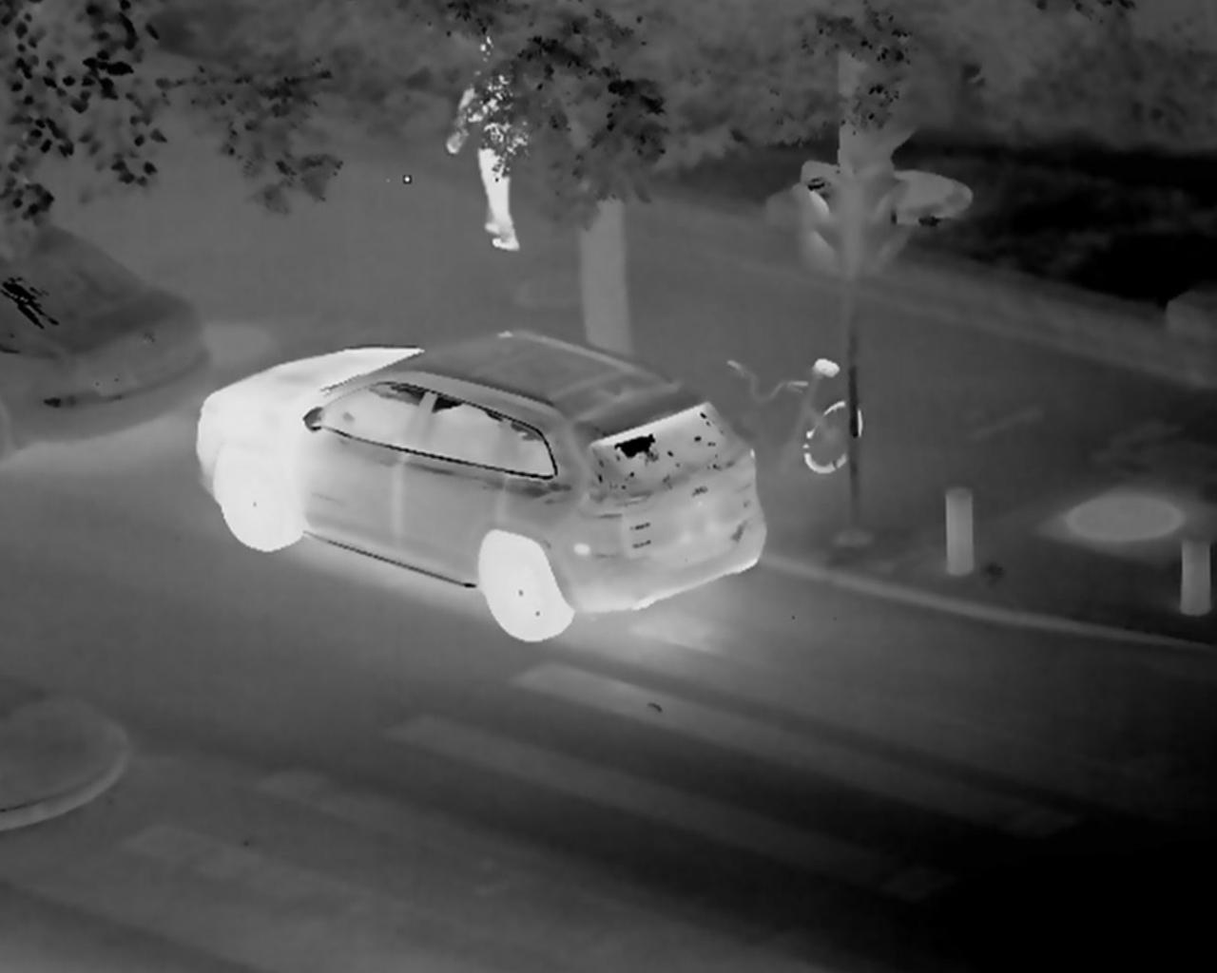person: (446, 29, 531, 256)
